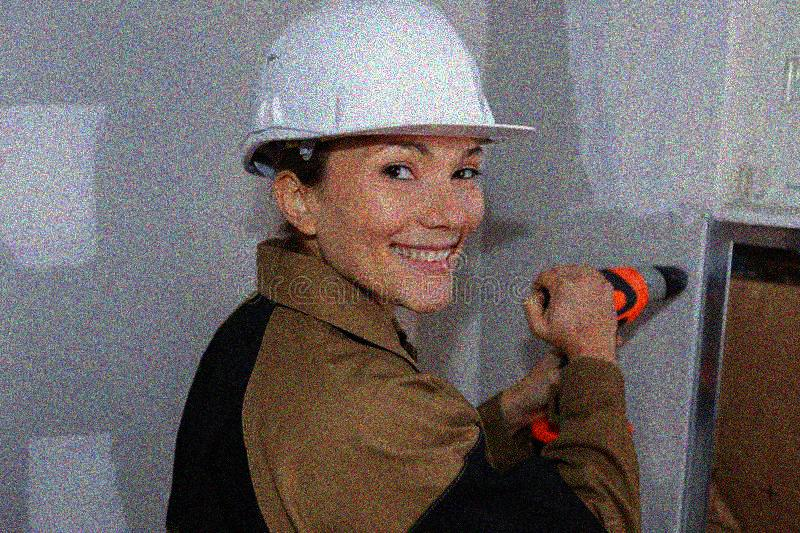helmet: (240, 1, 535, 315)
